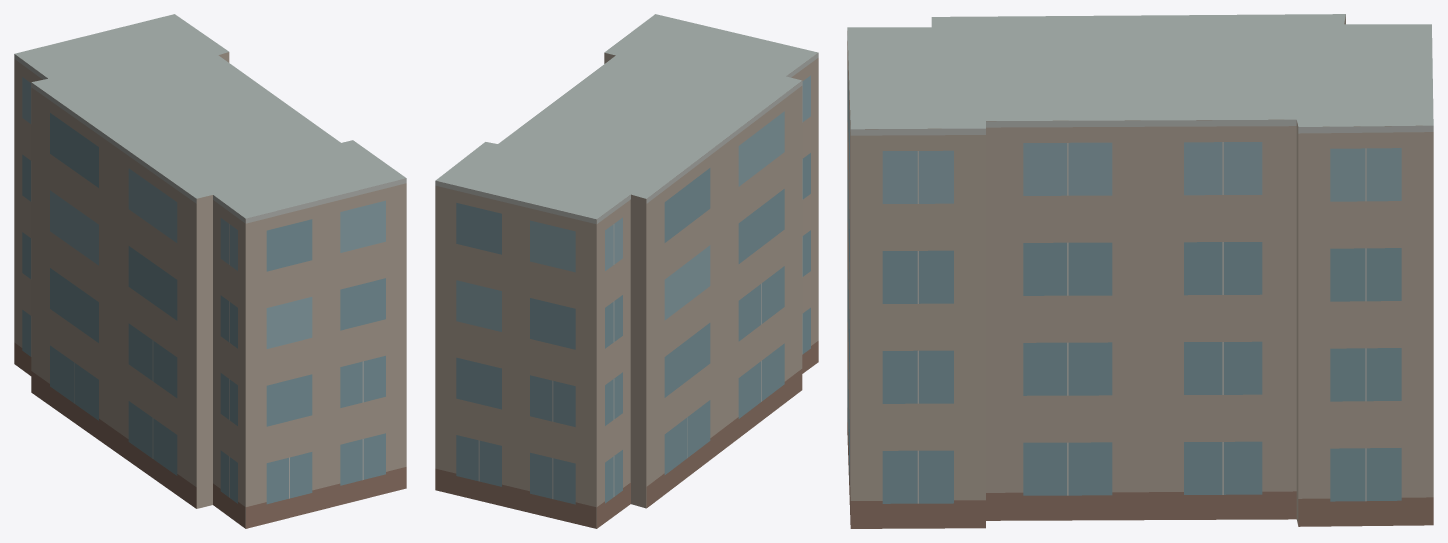
File: survey-upis-32903588.glb
3 renders of one model, left to right at view 1: azimuth 30°, elevation 25°; view 2: azimuth 150°, elevation 25°; view 3: azimuth 270°, elevation 25°, orthographic. The views are drawn at different scales.
Parts seen in each view (by area): view 1: survey-upis-32903588.tmp; view 2: survey-upis-32903588.tmp; view 3: survey-upis-32903588.tmp.
Boxes of the visible parts, x1=… form: survey-upis-32903588.tmp: x1=14, y1=14, x2=406, y2=528; survey-upis-32903588.tmp: x1=435, y1=14, x2=818, y2=528; survey-upis-32903588.tmp: x1=847, y1=14, x2=1433, y2=528.
Size of the model in its own units: 9.34 by 15.1 by 20.08.
